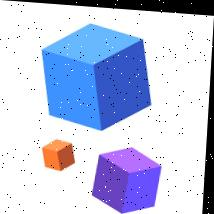cube: (39, 20, 154, 131), (93, 143, 163, 214), (42, 138, 78, 171)
